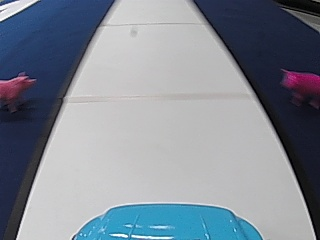pig: (278, 65, 317, 108), (0, 70, 35, 111)
